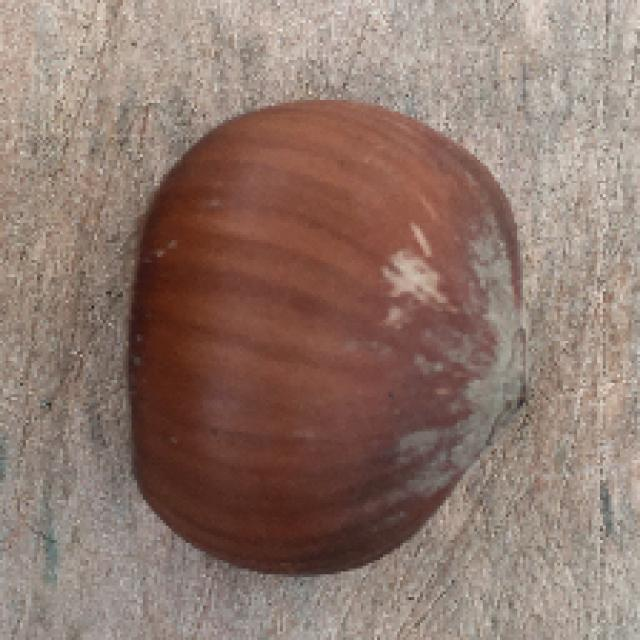damagedHazelnut: (109, 98, 536, 565)
